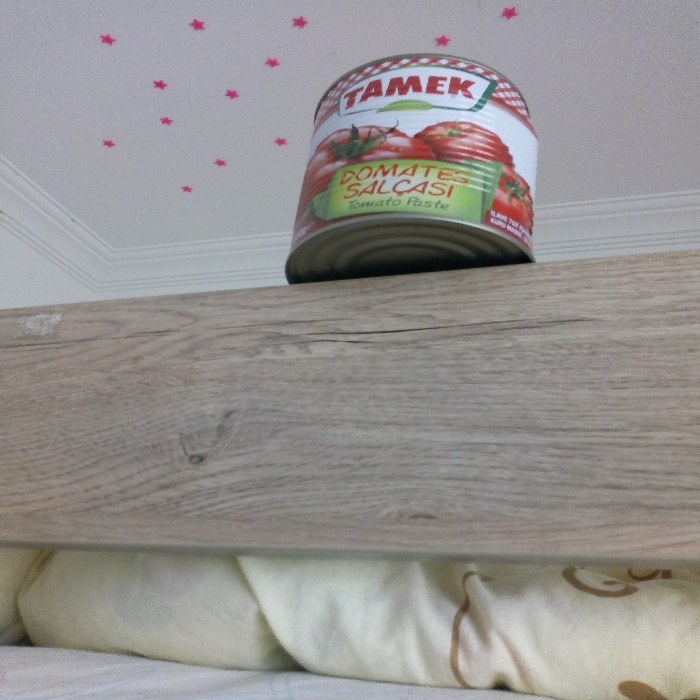salca: (285, 37, 552, 274)
